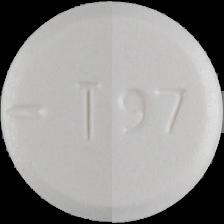63187-274: (0, 0, 224, 224)
